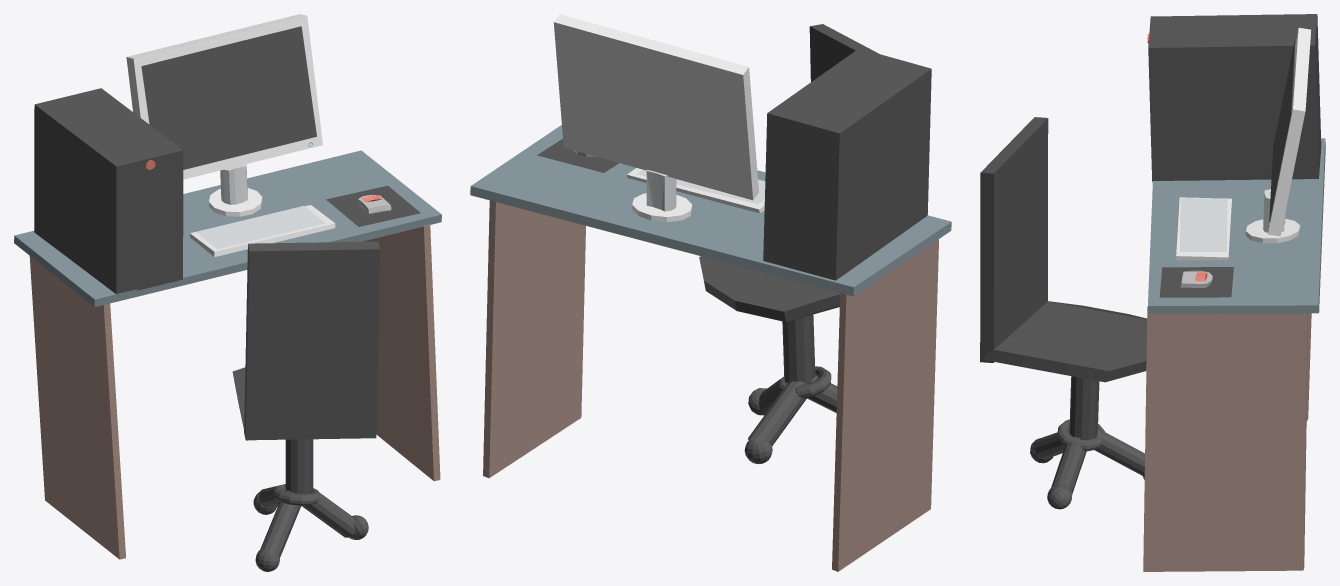
The model's file is desk.gltf.
The picture shows the model from 3 angles, left to right: view 1: azimuth 30°, elevation 25°; view 2: azimuth 150°, elevation 25°; view 3: azimuth 270°, elevation 25°; orthographic projection. The views are drawn at different scales.
Parts seen in each view (by area): view 1: model; view 2: model; view 3: model.
Boxes of the visible parts, x1,y1,x2,y2 form: model: (14,14,441,571); model: (470,14,951,571); model: (980,14,1325,571).
Size of the model in its own units: 1.48 by 1.74 by 1.25.
